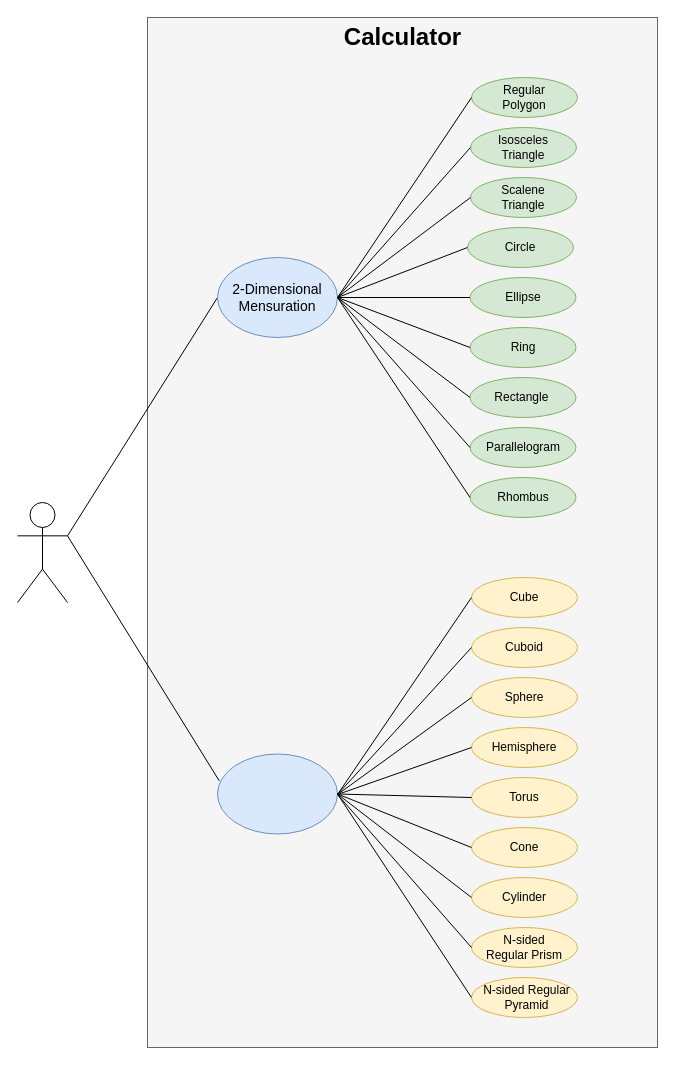
Some shapes in this 675 by 1065 pixel diagram are drawn without their labels. The shapes that lost their labels are listed below. From the top down, each one's centre as x and y in pixels, then its label:
At (x=42, y=552): "User".
At (x=277, y=793): "3-Dimensional Mensuration".
